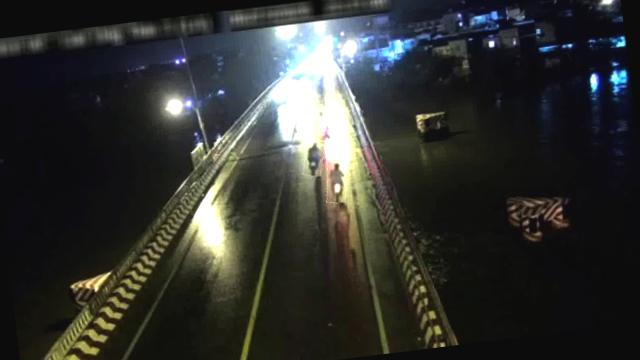Bike: (324, 160, 349, 204), (300, 137, 326, 176), (314, 110, 331, 141)
